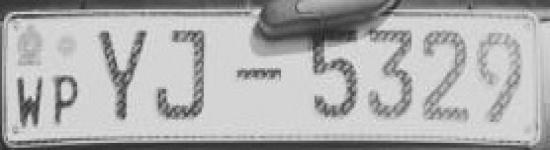-: (233, 61, 285, 91)
2: (417, 24, 474, 126)
3: (366, 20, 419, 122)
5: (308, 22, 366, 125)
9: (472, 24, 523, 131)
J: (156, 25, 215, 125)
P: (51, 69, 85, 128)
W: (9, 72, 46, 130)
Y: (92, 21, 156, 121)
